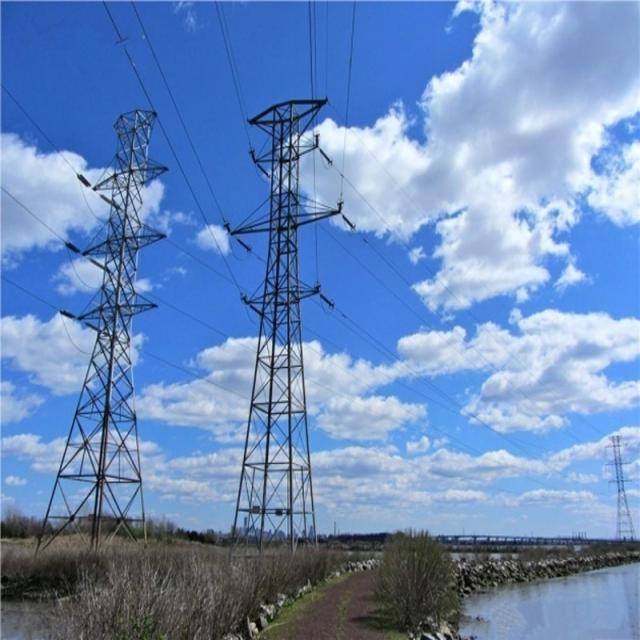non-critical vegetation: (218, 90, 350, 544), (43, 84, 166, 543)
